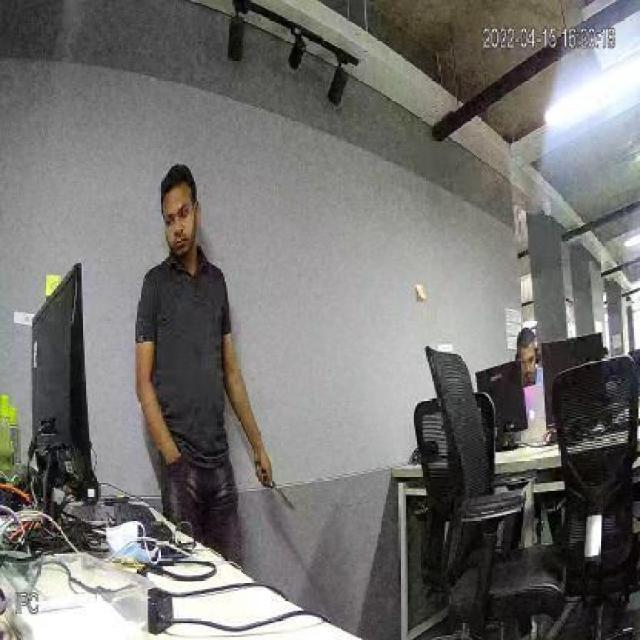-: (258, 463, 294, 514)
